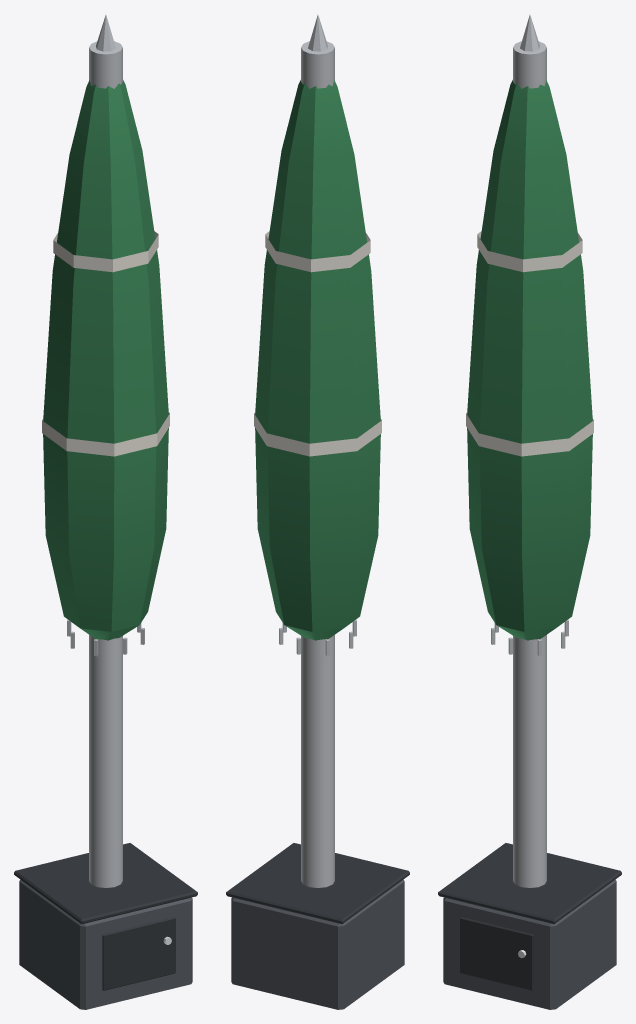
File: SC_Str_Crosswalk_Sunshade_Closed.gltf
The picture shows the model from 3 angles, left to right: view 1: azimuth 30°, elevation 25°; view 2: azimuth 150°, elevation 25°; view 3: azimuth 330°, elevation 25°; orthographic projection.
Visible parts, largest first — view 1: SC_Str_Crosswalk_Sunshade_Closed; view 2: SC_Str_Crosswalk_Sunshade_Closed; view 3: SC_Str_Crosswalk_Sunshade_Closed.
Boxes of the visible parts, left/top/right/bottom form: SC_Str_Crosswalk_Sunshade_Closed: left=14, top=15, right=197, bottom=1009; SC_Str_Crosswalk_Sunshade_Closed: left=226, top=15, right=409, bottom=1009; SC_Str_Crosswalk_Sunshade_Closed: left=438, top=15, right=621, bottom=1009.
Size of the model in its own units: 0.48 by 3.74 by 0.492.
Materials: 1 (1 with a texture image).
